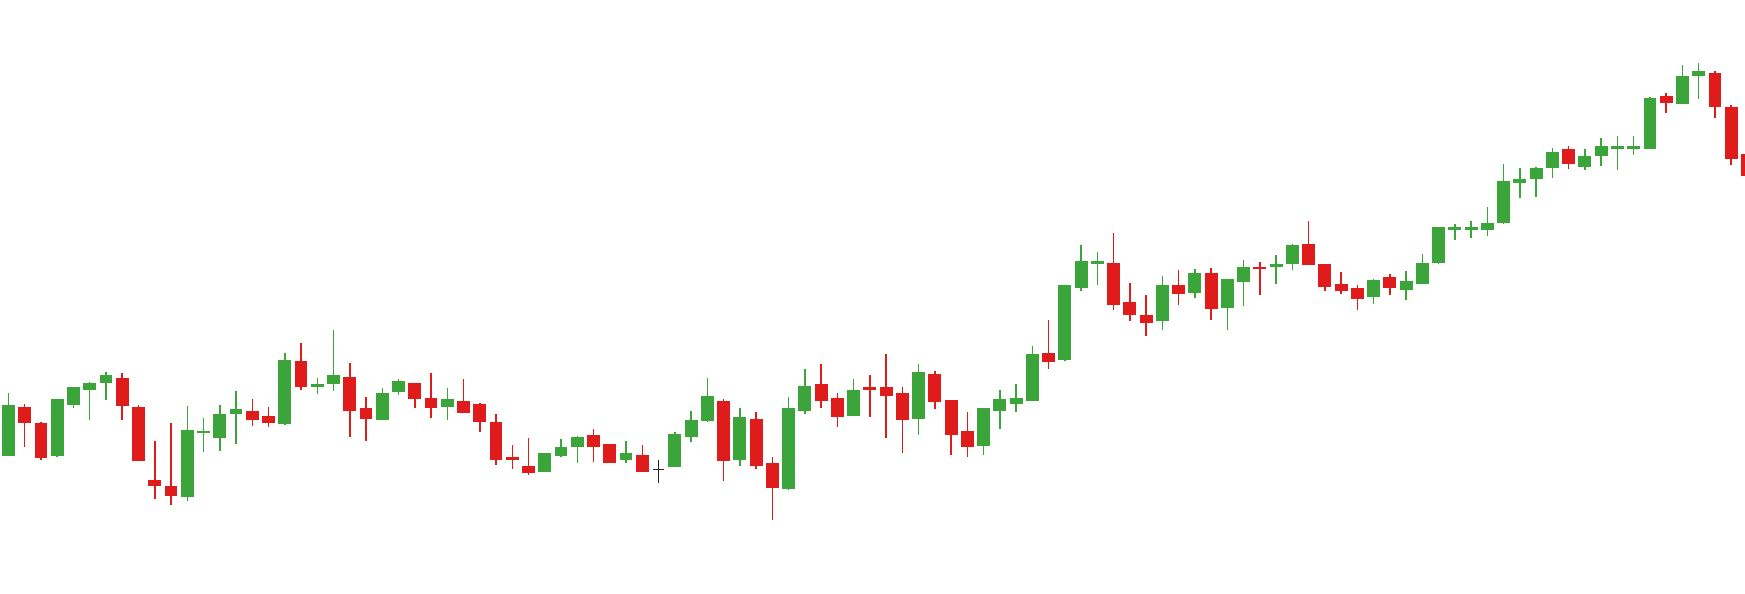buy: (34, 399, 195, 502), (650, 430, 797, 521)
